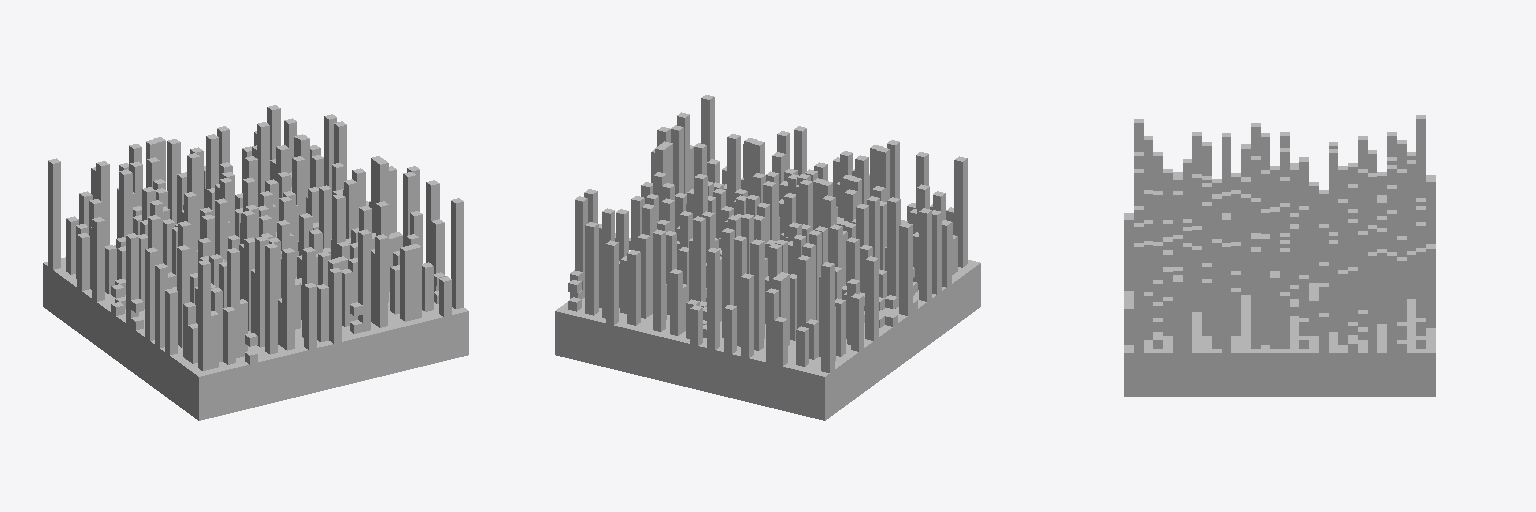
Rendered from Plaines Map-0.obj.
3 views of the same model, side by side, from view 1: azimuth 30°, elevation 25°; view 2: azimuth 150°, elevation 25°; view 3: azimuth 270°, elevation 25° (orthographic).
Parts seen in each view (by area): view 1: object 1; view 2: object 1; view 3: object 1.
Part boxes in pixels (x1,y1,x2,y2): object 1: (43, 105, 468, 420); object 1: (555, 95, 980, 420); object 1: (1124, 115, 1435, 396).
Bounding box in the file's own units: 3.2 × 1.7 × 3.2.